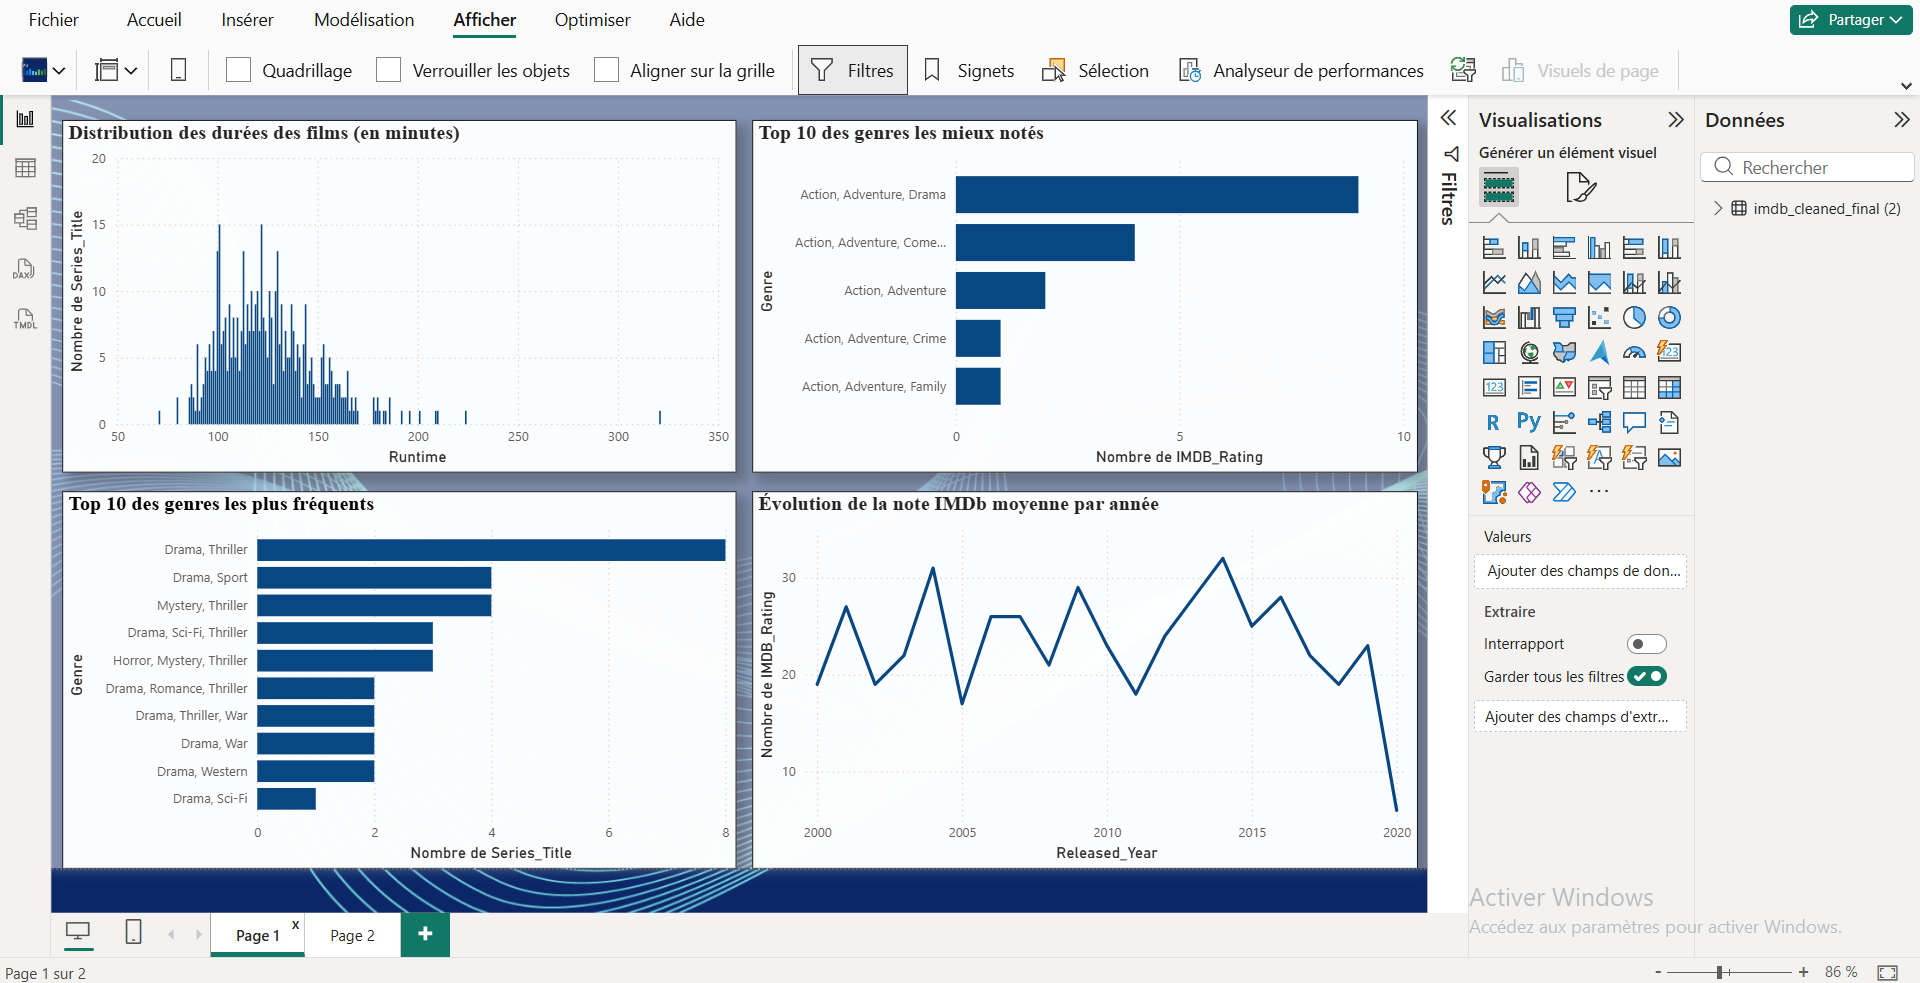

The dashboard page shown, as its layout file describes it:
{"tool":"powerbi","page":{"name":"Page 1","canvas":[1280,720],"ordinal":0},"visuals":[{"type":"clusteredColumnChart","title":"Distribution des durées des films (en minutes)","fields":{"Y":["Count(imdb_cleaned_final (2).Series_Title)"],"Category":["imdb_cleaned_final (2).Runtime"]},"box":[10.9,22.9,627.3,328.2],"z":0},{"type":"barChart","title":" Top 10 des genres les plus fréquents","fields":{"Category":["imdb_cleaned_final (2).Genre"],"Y":["CountNonNull(imdb_cleaned_final (2).Series_Title)"]},"box":[10.9,369.2,627.3,351.1],"z":1000},{"type":"barChart","title":"Top 10 des genres les mieux notés","fields":{"Category":["imdb_cleaned_final (2).Genre"],"Y":["Count(imdb_cleaned_final (2).IMDB_Rating)"]},"box":[652.7,22.9,618.9,328.2],"z":2000},{"type":"lineChart","title":"Évolution de la note IMDb moyenne par année","fields":{"Category":["imdb_cleaned_final (2).Released_Year"],"Y":["CountNonNull(imdb_cleaned_final (2).IMDB_Rating)"]},"box":[652.7,369.2,618.9,351.1],"z":3000}]}

Visuals, with their boxes on the page's 1280x720 design canvas (x1, y1, x2, y2). These are canvas units, not pixel positions in the 1920x983 screenshot, which may show the page scaled, cropped or inside an application window:
"Distribution des durées des films (en minutes)" clusteredColumnChart: select_region(11, 23, 638, 351)
" Top 10 des genres les plus fréquents" barChart: select_region(11, 369, 638, 720)
"Top 10 des genres les mieux notés" barChart: select_region(653, 23, 1272, 351)
"Évolution de la note IMDb moyenne par année" lineChart: select_region(653, 369, 1272, 720)
